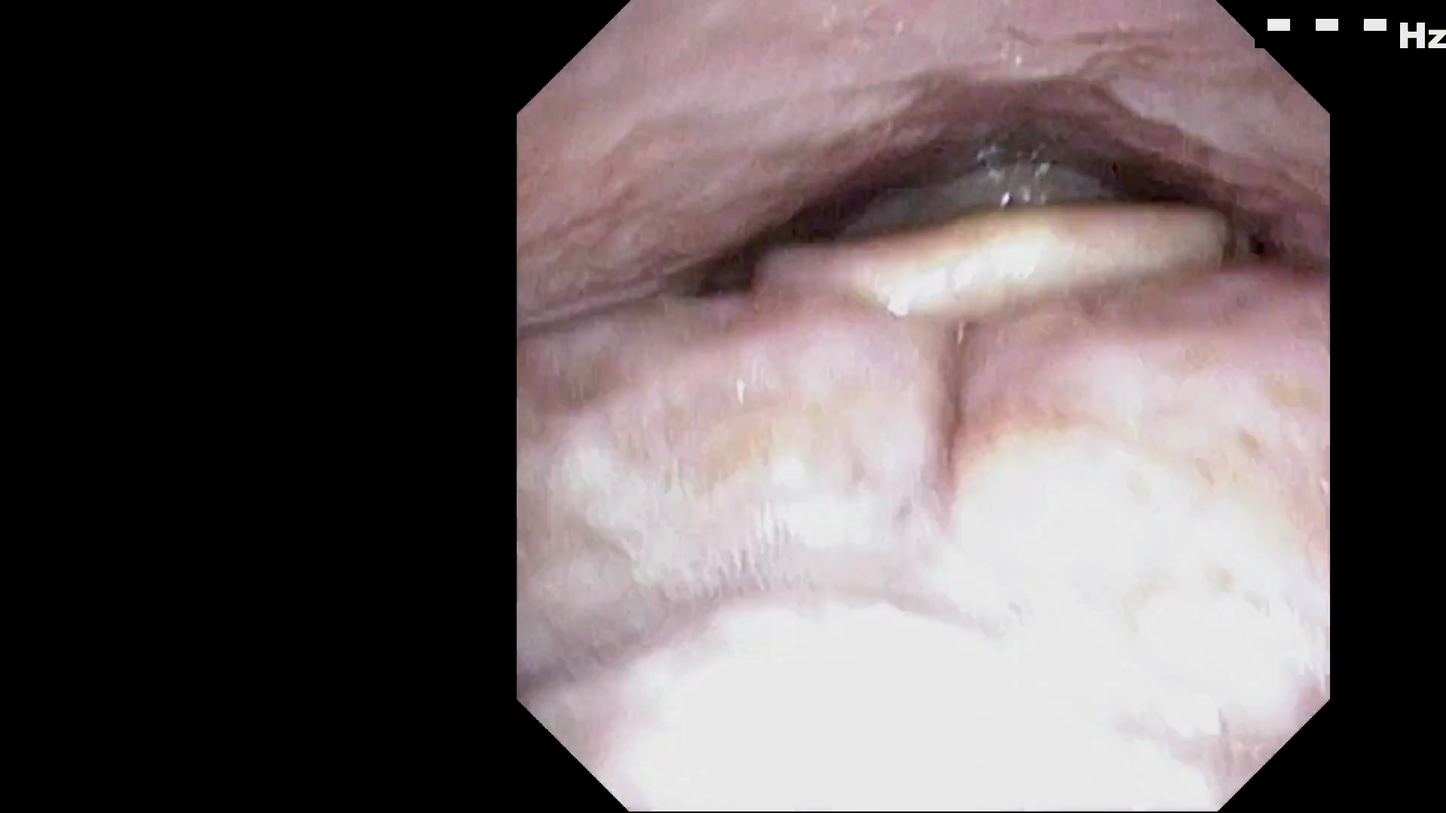epiglottis: (802, 200, 1189, 333)
